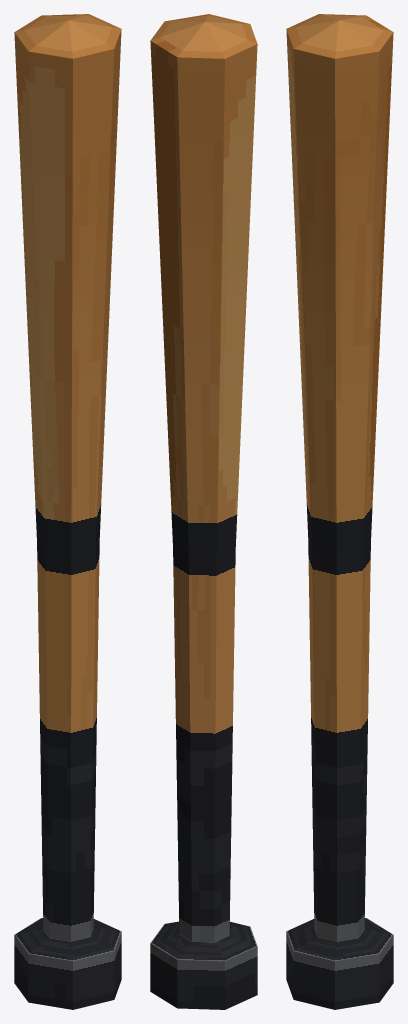
The model's file is bat.glb.
3 renders of one model, left to right at view 1: azimuth 30°, elevation 25°; view 2: azimuth 150°, elevation 25°; view 3: azimuth 330°, elevation 25°, orthographic.
Parts seen in each view (by area): view 1: Cylinder; view 2: Cylinder; view 3: Cylinder.
Part boxes in pixels (left/top/right/bottom): Cylinder: left=14, top=14, right=121, bottom=1009; Cylinder: left=150, top=14, right=257, bottom=1009; Cylinder: left=286, top=14, right=393, bottom=1009.
Size of the model in its own units: 8.19 by 81.29 by 7.98.
1 material, 1 textured.
